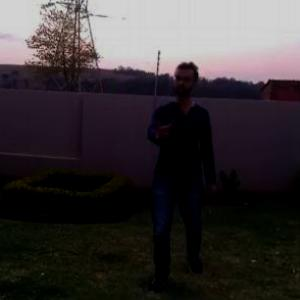takeoff-hand: (151, 109, 179, 141)
